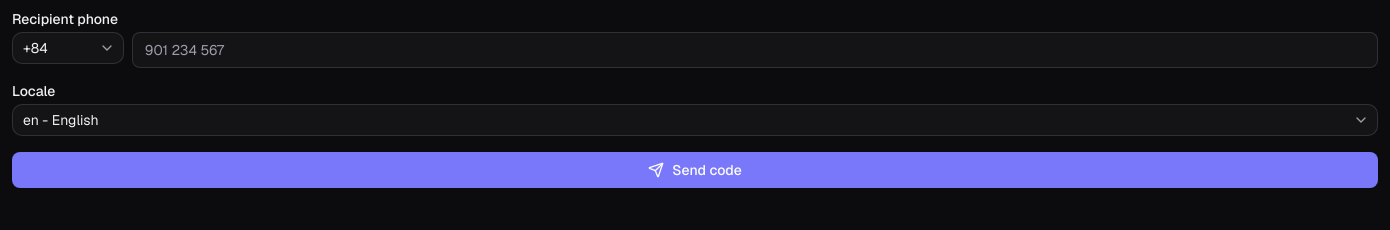
Test case: SendForm › shows a validation error for an invalid phone under the sms channel
The width and height of the screenshot is (1390, 230).
Type "12345" into the field labelled "Recipient phone" at (755, 50), box [132,32,1378,68]
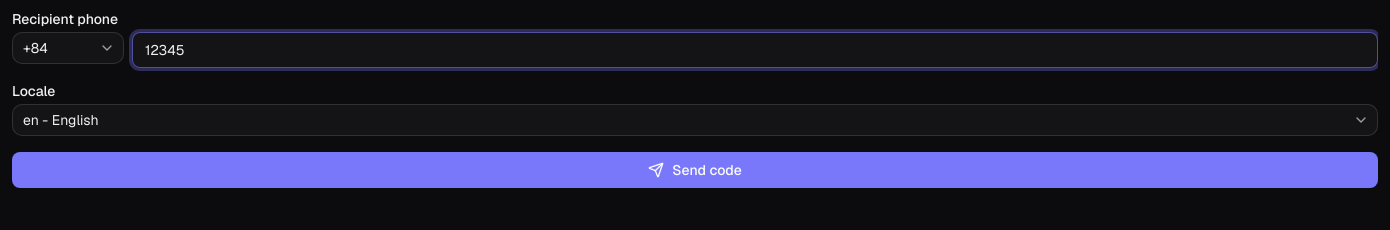
Click the button "Send code" at (695, 170), box [12,152,1378,188]
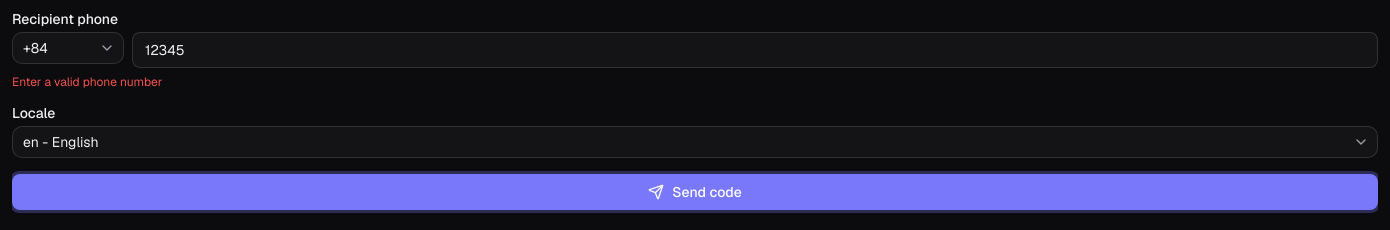
expect the text "Enter a valid phone number" is shown: met, box [12,74,162,90]
